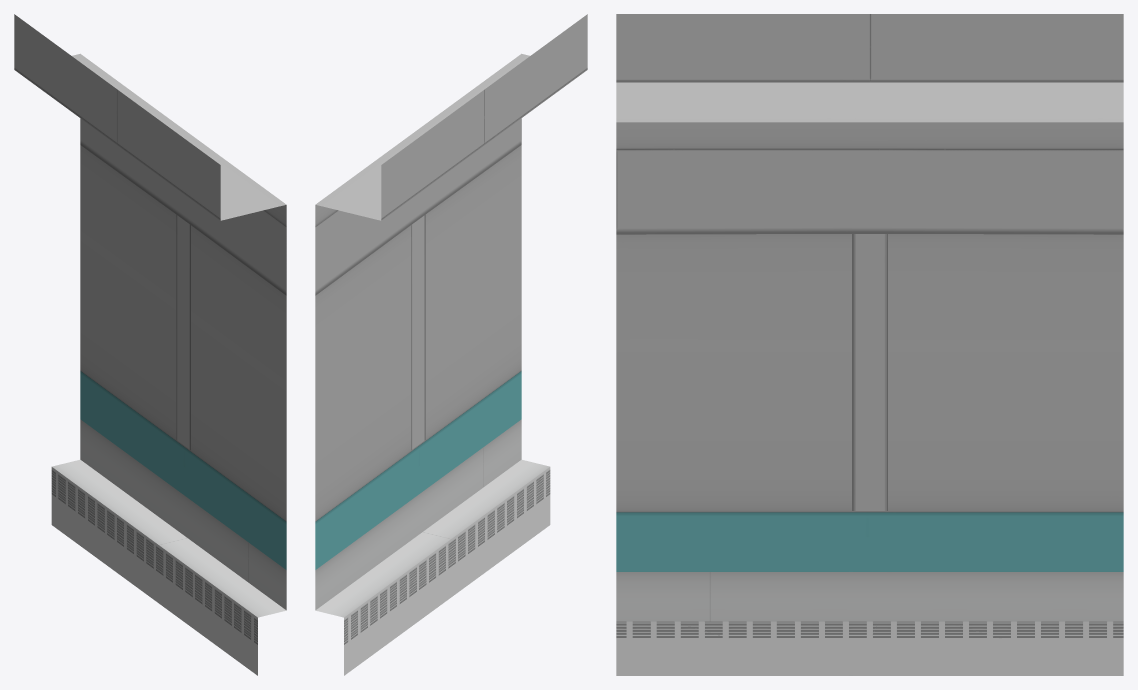
Rendered from TrainWallSmall.fbx.
3 renders of one model, left to right at view 1: azimuth 30°, elevation 25°; view 2: azimuth 150°, elevation 25°; view 3: azimuth 270°, elevation 25°, orthographic. The views are drawn at different scales.
Parts seen in each view (by area): view 1: WallBaseSmall; view 2: WallBaseSmall; view 3: WallBaseSmall.
Boxes of the visible parts, x1,y1,x2,y2 form: WallBaseSmall: (14, 14, 286, 675); WallBaseSmall: (315, 14, 587, 675); WallBaseSmall: (616, 14, 1123, 675).
Size of the model in its own units: 37.32 by 280 by 201.
